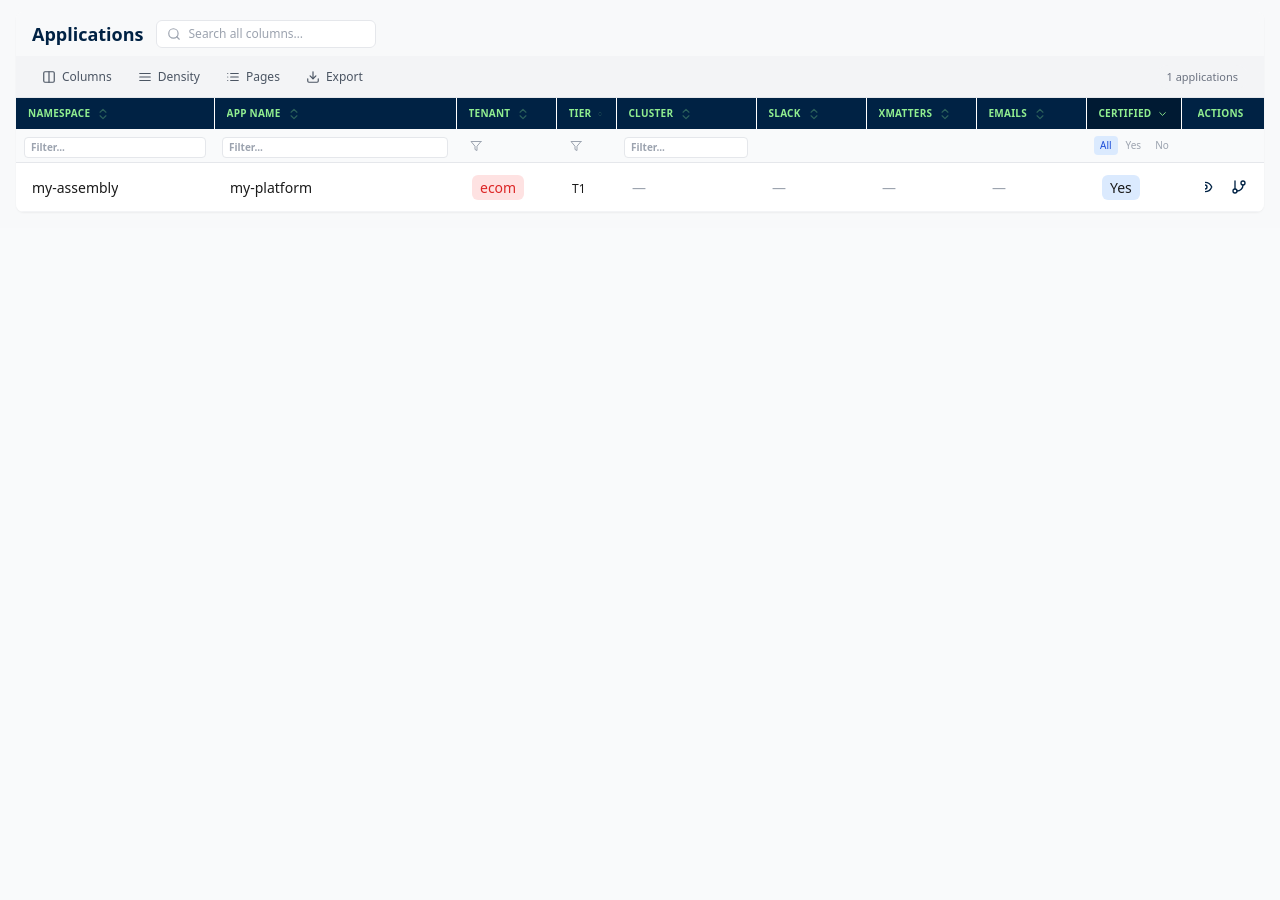
Test: ApplicationsView › detail modal › shows OneOps section for oneops apps
The image size is (1280, 900).
Click the button titled "View application details" at coordinates (1205, 187), box [1191, 173, 1219, 201]
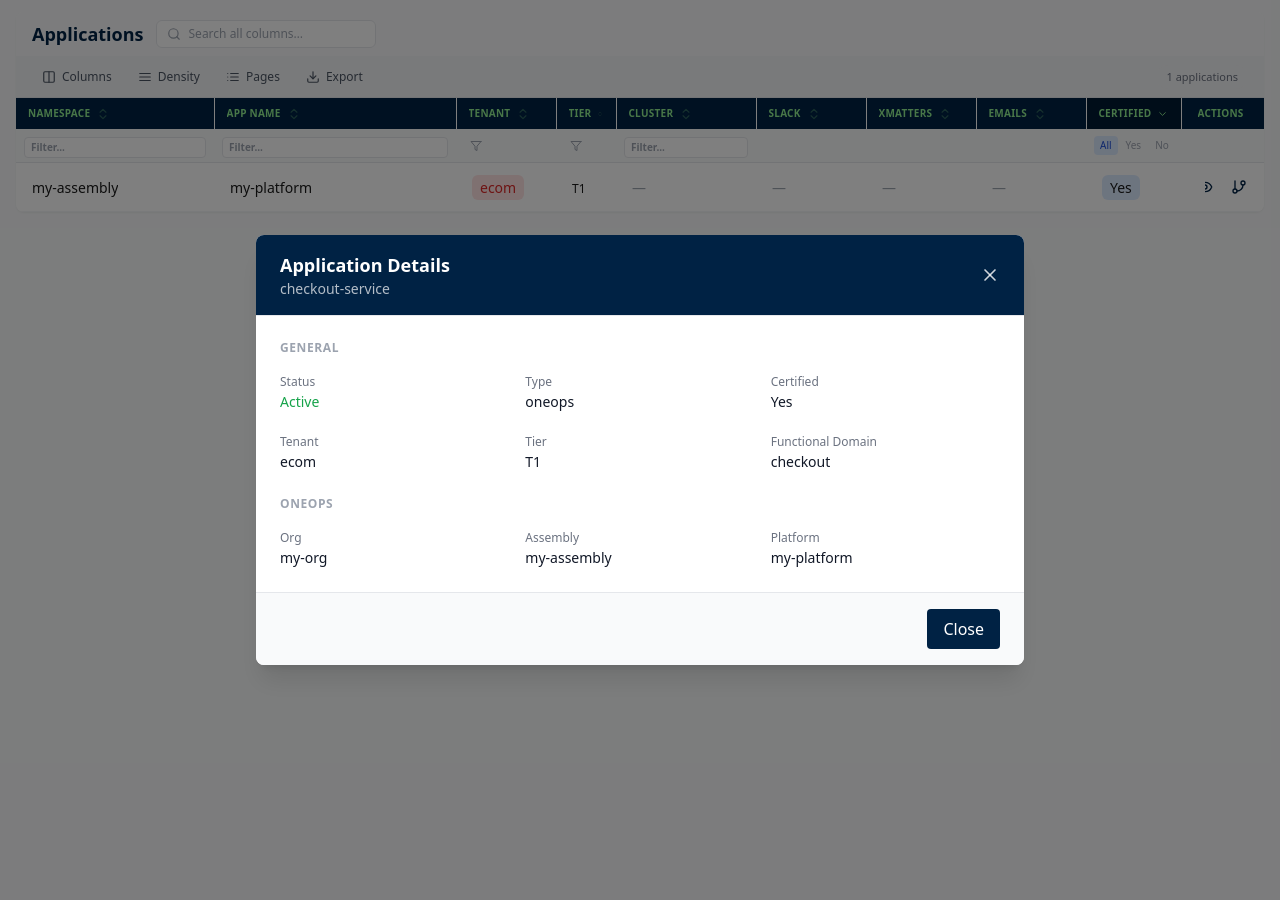
Result: the heading "OneOps" is shown at [280, 495, 333, 512]
